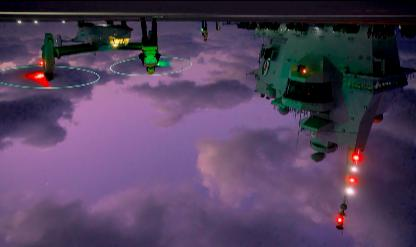Tornado: (2, 20, 192, 88)
